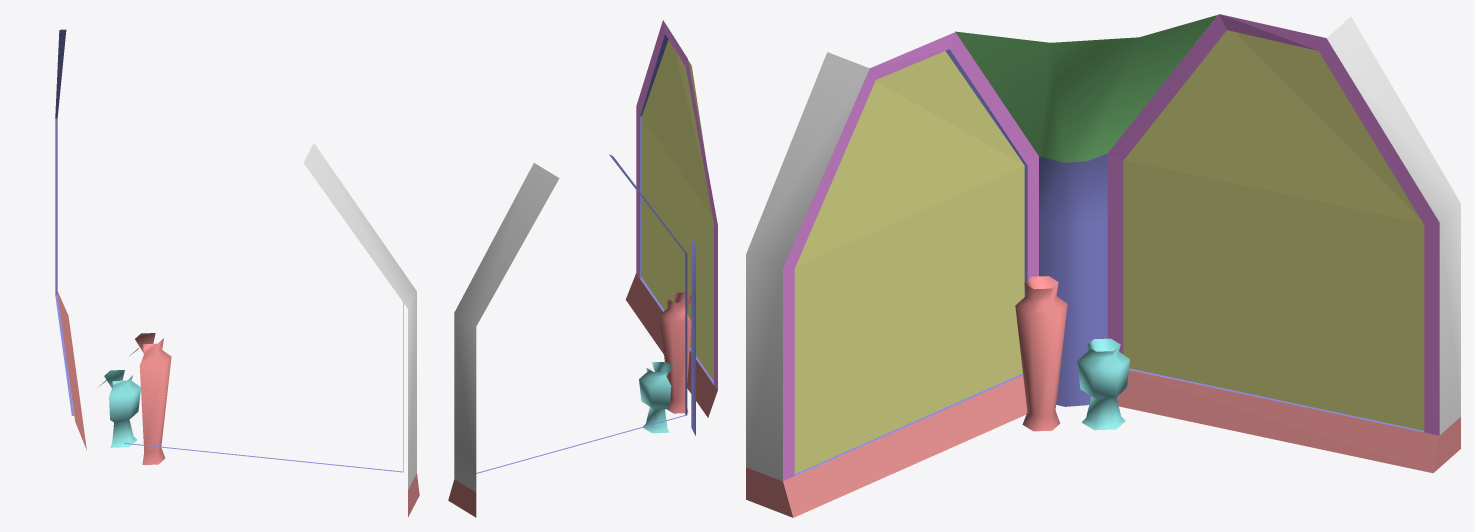
The model's file is interior_B_delf_store_08.gltf.
The picture shows the model from 3 angles, left to right: view 1: azimuth 30°, elevation 25°; view 2: azimuth 150°, elevation 25°; view 3: azimuth 270°, elevation 25°; orthographic projection. The views are drawn at different scales.
Parts seen in each view (by area): view 1: interior_B_delf_store_08; view 2: interior_B_delf_store_08; view 3: interior_B_delf_store_08.
Part boxes in pixels (x1=…): interior_B_delf_store_08: x1=55, y1=29, x2=419, y2=517; interior_B_delf_store_08: x1=448, y1=20, x2=717, y2=517; interior_B_delf_store_08: x1=746, y1=14, x2=1460, y2=517.
Bounding box in the file's own units: 0.8024 × 1.27 × 2.01.
